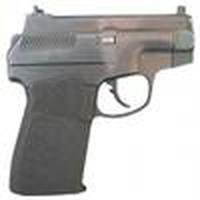gun: (6, 9, 195, 193)
